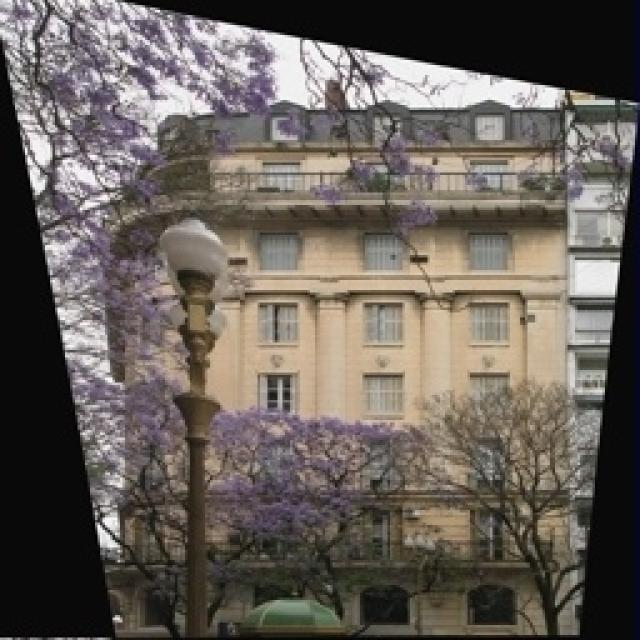building: (98, 75, 572, 640)
